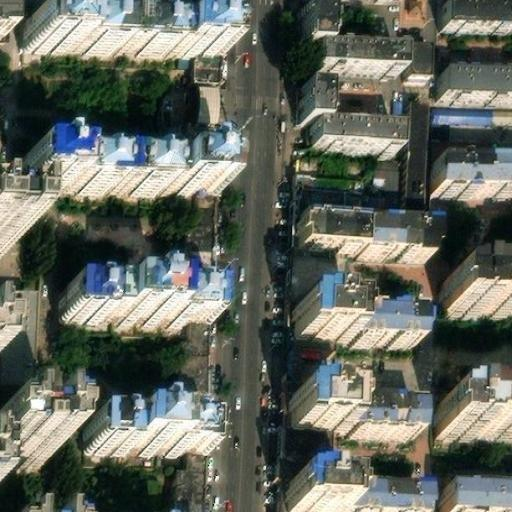building: (279, 168, 345, 512), (173, 318, 209, 426), (183, 48, 220, 148), (178, 185, 214, 287), (11, 416, 77, 460), (361, 216, 436, 254), (84, 17, 175, 48), (82, 154, 173, 185), (308, 37, 398, 64), (352, 307, 422, 341), (408, 92, 429, 202), (349, 393, 419, 426), (343, 477, 413, 510), (309, 116, 395, 142), (168, 449, 203, 512), (296, 383, 351, 423), (290, 467, 345, 507), (299, 297, 354, 337), (302, 213, 363, 249), (455, 410, 512, 446), (122, 278, 173, 318), (440, 61, 512, 89), (434, 122, 511, 148), (121, 410, 172, 449), (175, 11, 227, 48), (173, 148, 225, 185), (455, 169, 512, 202), (36, 4, 84, 43), (34, 141, 82, 180), (462, 288, 512, 324), (72, 285, 123, 317), (453, 485, 512, 512), (172, 286, 214, 319), (87, 417, 122, 448), (172, 417, 204, 450), (445, 100, 505, 117), (304, 78, 326, 116), (397, 43, 419, 78)
